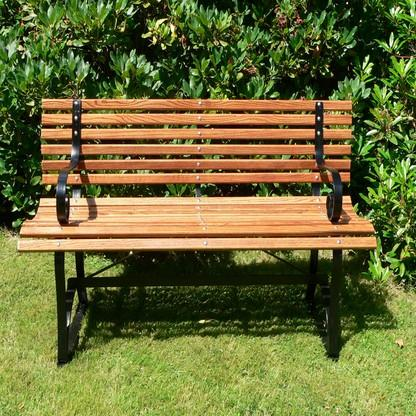obstacle: (22, 89, 383, 357)
